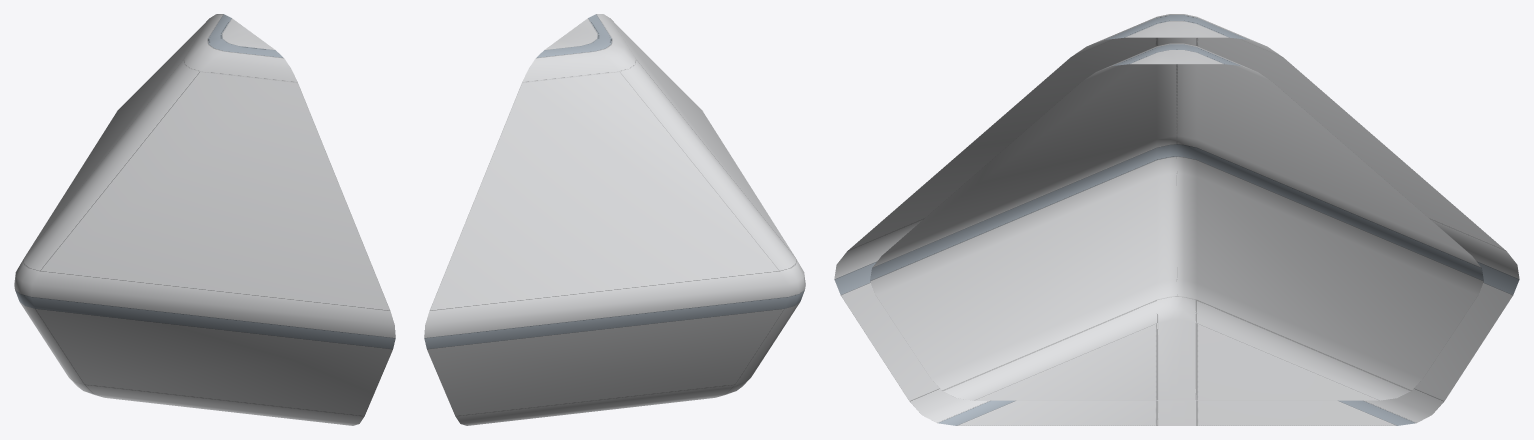
The model's file is Angle_Coin_01.FBX.
3 views of the same model, side by side, from view 1: azimuth 30°, elevation 25°; view 2: azimuth 150°, elevation 25°; view 3: azimuth 270°, elevation 25° (orthographic). The views are drawn at different scales.
Visible parts, largest first — view 1: Angle_Coin_01; view 2: Angle_Coin_01; view 3: Angle_Coin_01.
Part boxes in pixels (x1=…): Angle_Coin_01: x1=14, y1=14, x2=395, y2=425; Angle_Coin_01: x1=424, y1=14, x2=805, y2=425; Angle_Coin_01: x1=834, y1=14, x2=1519, y2=425.
Bounding box in the file's own units: 3.84 × 5 × 8.
Materials: 2 (2 with a texture image).
